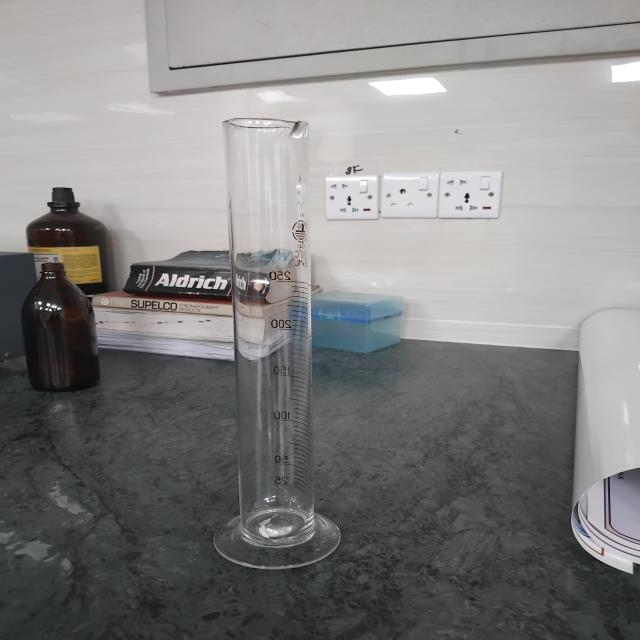Measuring_Cylinder: (132, 57, 417, 598)
